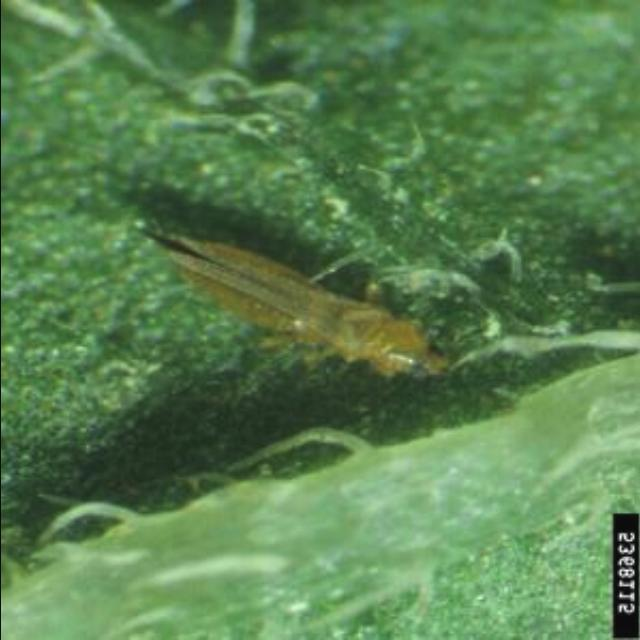melon thrips: (92, 180, 482, 416)
